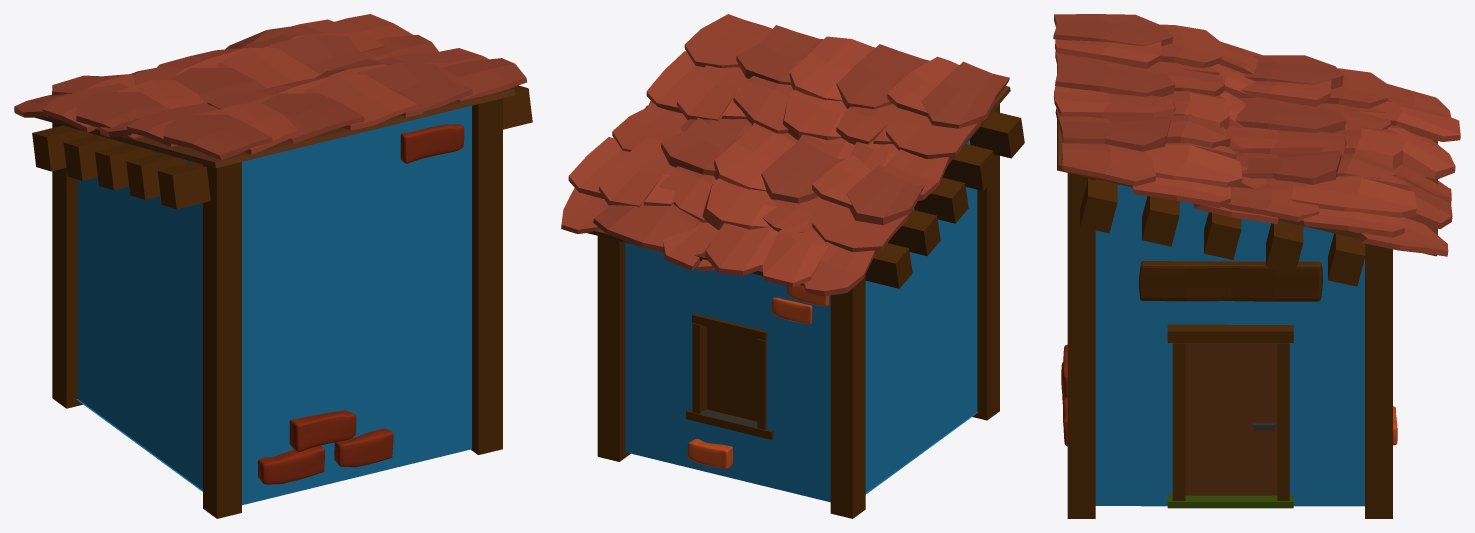
Rendered from taberna_modelo.fbx.
3 views of the same model, side by side, from view 1: azimuth 30°, elevation 25°; view 2: azimuth 150°, elevation 25°; view 3: azimuth 270°, elevation 25° (orthographic). The views are drawn at different scales.
Visible parts, largest first — view 1: parede4.002, Material-material.044, telhas.026, apoio_telhado, telhas.026_Telhas escuro_0.001, telhas.026_Telhas_0.001, object 3, pCube315_taslar1_0.003, forro_telhado, pCube314_taslar1_0.002, pCube313_taslar1_0.002; view 2: parede4.002, telhas.026, Material-material.044, telhas.026_Telhas_0.001, object 3, telhas.026_Telhas escuro_0.001, janela, apoio_telhado, pCube313_taslar1_0.001, forro_telhado; view 3: parede4.002, telhas.026, Material-material.051, Material-material.044, telhas.026_Telhas_0.001, telhas.026_Telhas escuro_0.001, object 3, apoio_telhado, tabua, forro_telhado.
Boxes of the visible parts, <box> form: parede4.002: <box>77,106,471,505</box>; Material-material.044: <box>52,98,502,518</box>; telhas.026: <box>14,14,438,139</box>; apoio_telhado: <box>32,85,532,209</box>; telhas.026_Telhas escuro_0.001: <box>163,62,472,160</box>; telhas.026_Telhas_0.001: <box>204,48,488,154</box>; object 3: <box>100,58,527,146</box>; pCube315_taslar1_0.003: <box>289,124,464,451</box>; forro_telhado: <box>34,88,514,167</box>; pCube314_taslar1_0.002: <box>257,445,324,484</box>; pCube313_taslar1_0.002: <box>334,428,393,467</box>; parede4.002: <box>625,140,977,502</box>; telhas.026: <box>561,104,925,296</box>; Material-material.044: <box>597,104,999,518</box>; telhas.026_Telhas_0.001: <box>646,36,958,170</box>; object 3: <box>647,14,981,200</box>; telhas.026_Telhas escuro_0.001: <box>680,25,1009,135</box>; janela: <box>686,313,773,439</box>; apoio_telhado: <box>645,105,1024,288</box>; pCube313_taslar1_0.001: <box>687,285,829,469</box>; forro_telhado: <box>587,86,1010,294</box>; parede4.002: <box>1095,184,1364,506</box>; telhas.026: <box>1223,55,1460,256</box>; Material-material.051: <box>1167,324,1293,508</box>; Material-material.044: <box>1067,173,1392,518</box>; telhas.026_Telhas_0.001: <box>1053,39,1256,207</box>; telhas.026_Telhas escuro_0.001: <box>1053,14,1275,188</box>; object 3: <box>1062,24,1278,224</box>; apoio_telhado: <box>1080,179,1365,286</box>; tabua: <box>1139,261,1322,301</box>; forro_telhado: <box>1057,65,1437,256</box>.
Size of the model in its own units: 398 by 400 by 399.
